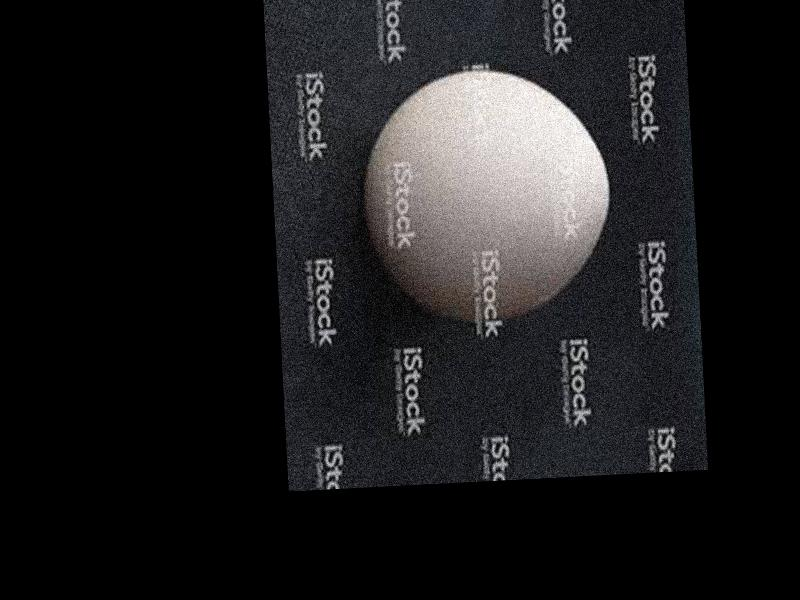Eggs: (356, 64, 615, 328)
